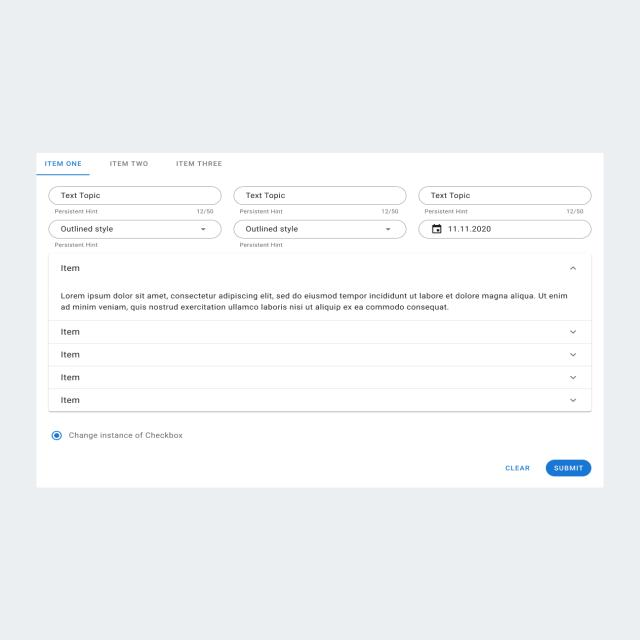QLabel: (504, 464, 530, 472), (554, 466, 583, 470)
VBtn: (545, 459, 592, 477), (494, 459, 539, 477)
VCard: (36, 152, 604, 488)
VCombobox: (48, 219, 222, 248), (233, 219, 407, 248)
VExpansionPanels: (48, 253, 593, 412)
VInlineDatepicker: (418, 219, 592, 239)
VRadio: (50, 428, 183, 442)
VTabs: (36, 154, 601, 178)
VTextField: (48, 186, 222, 216), (232, 186, 406, 216), (418, 186, 592, 215)
